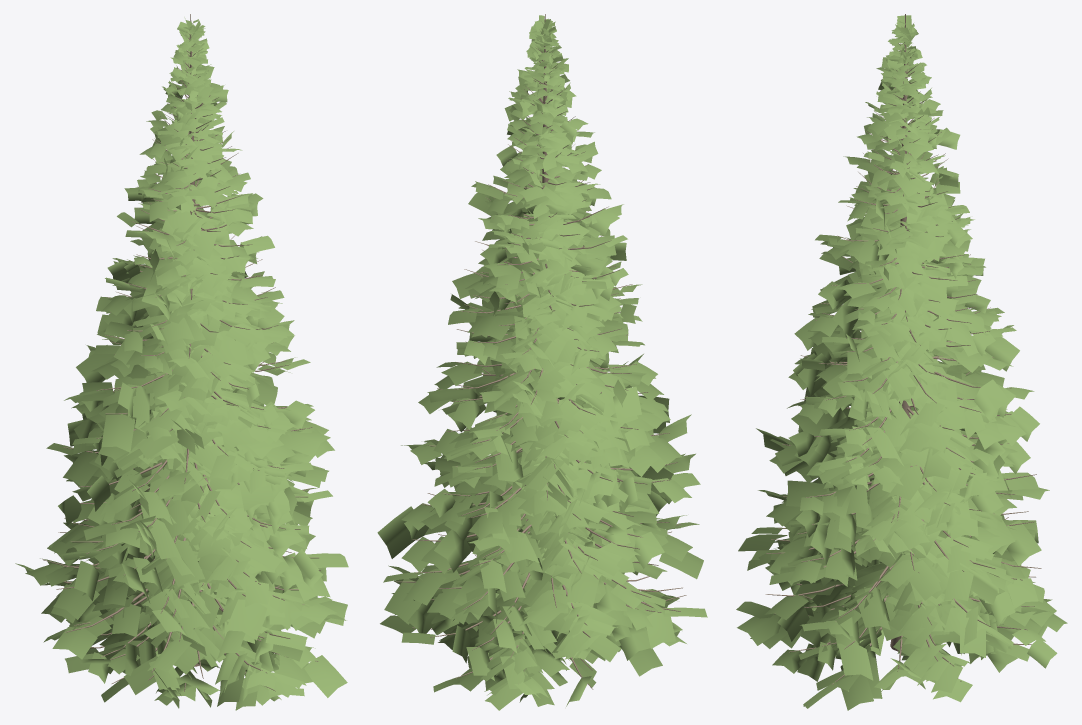
Rendered from Conifer_3_lod0.glb.
3 views of the same model, side by side, from view 1: azimuth 30°, elevation 25°; view 2: azimuth 150°, elevation 25°; view 3: azimuth 270°, elevation 25° (orthographic). The views are drawn at different scales.
Parts seen in each view (by area): view 1: Conifer_3_lod0; view 2: Conifer_3_lod0; view 3: Conifer_3_lod0.
Boxes of the visible parts, <box> form: Conifer_3_lod0: <box>15,14,348,710</box>; Conifer_3_lod0: <box>377,14,707,710</box>; Conifer_3_lod0: <box>736,14,1067,710</box>.
Size of the model in its own units: 6.78 by 14.44 by 6.66.
